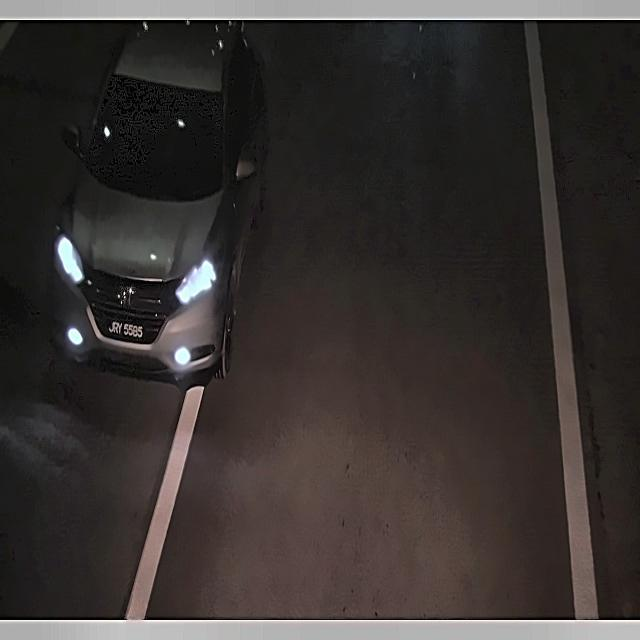car: (99, 308, 152, 346)
